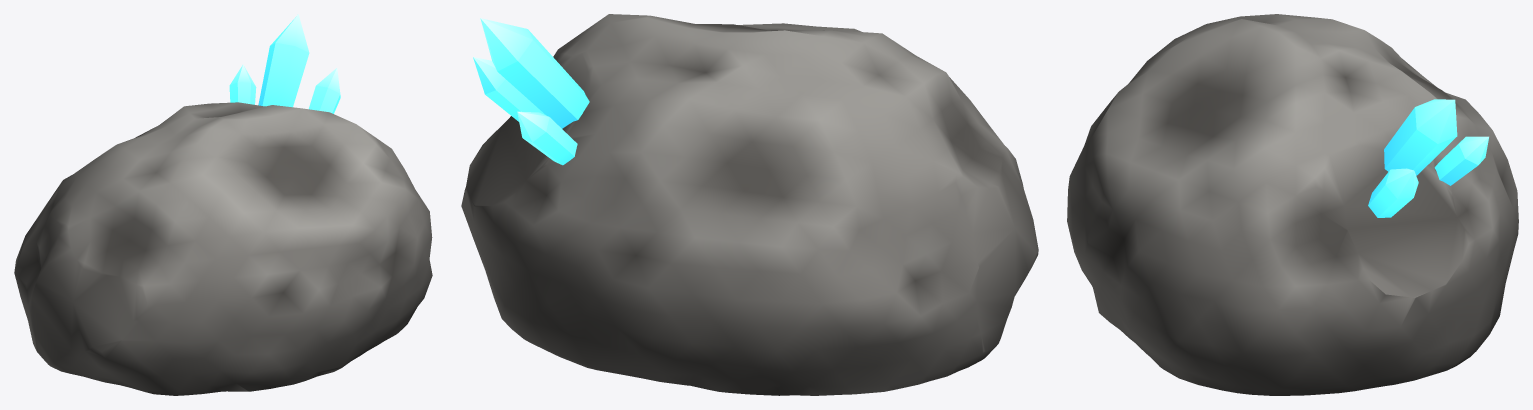
File: moon_rock_a.glb
3 renders of one model, left to right at view 1: azimuth 30°, elevation 25°; view 2: azimuth 150°, elevation 25°; view 3: azimuth 270°, elevation 25°, orthographic. The views are drawn at different scales.
Visible parts, largest first — view 1: moon_rock_a; view 2: moon_rock_a; view 3: moon_rock_a.
Boxes of the visible parts, left/top/right/bottom form: moon_rock_a: left=14, top=14, right=432, bottom=395; moon_rock_a: left=461, top=14, right=1038, bottom=395; moon_rock_a: left=1067, top=14, right=1518, bottom=395.
Size of the model in its own units: 1.43 by 0.8387 by 1.22.
